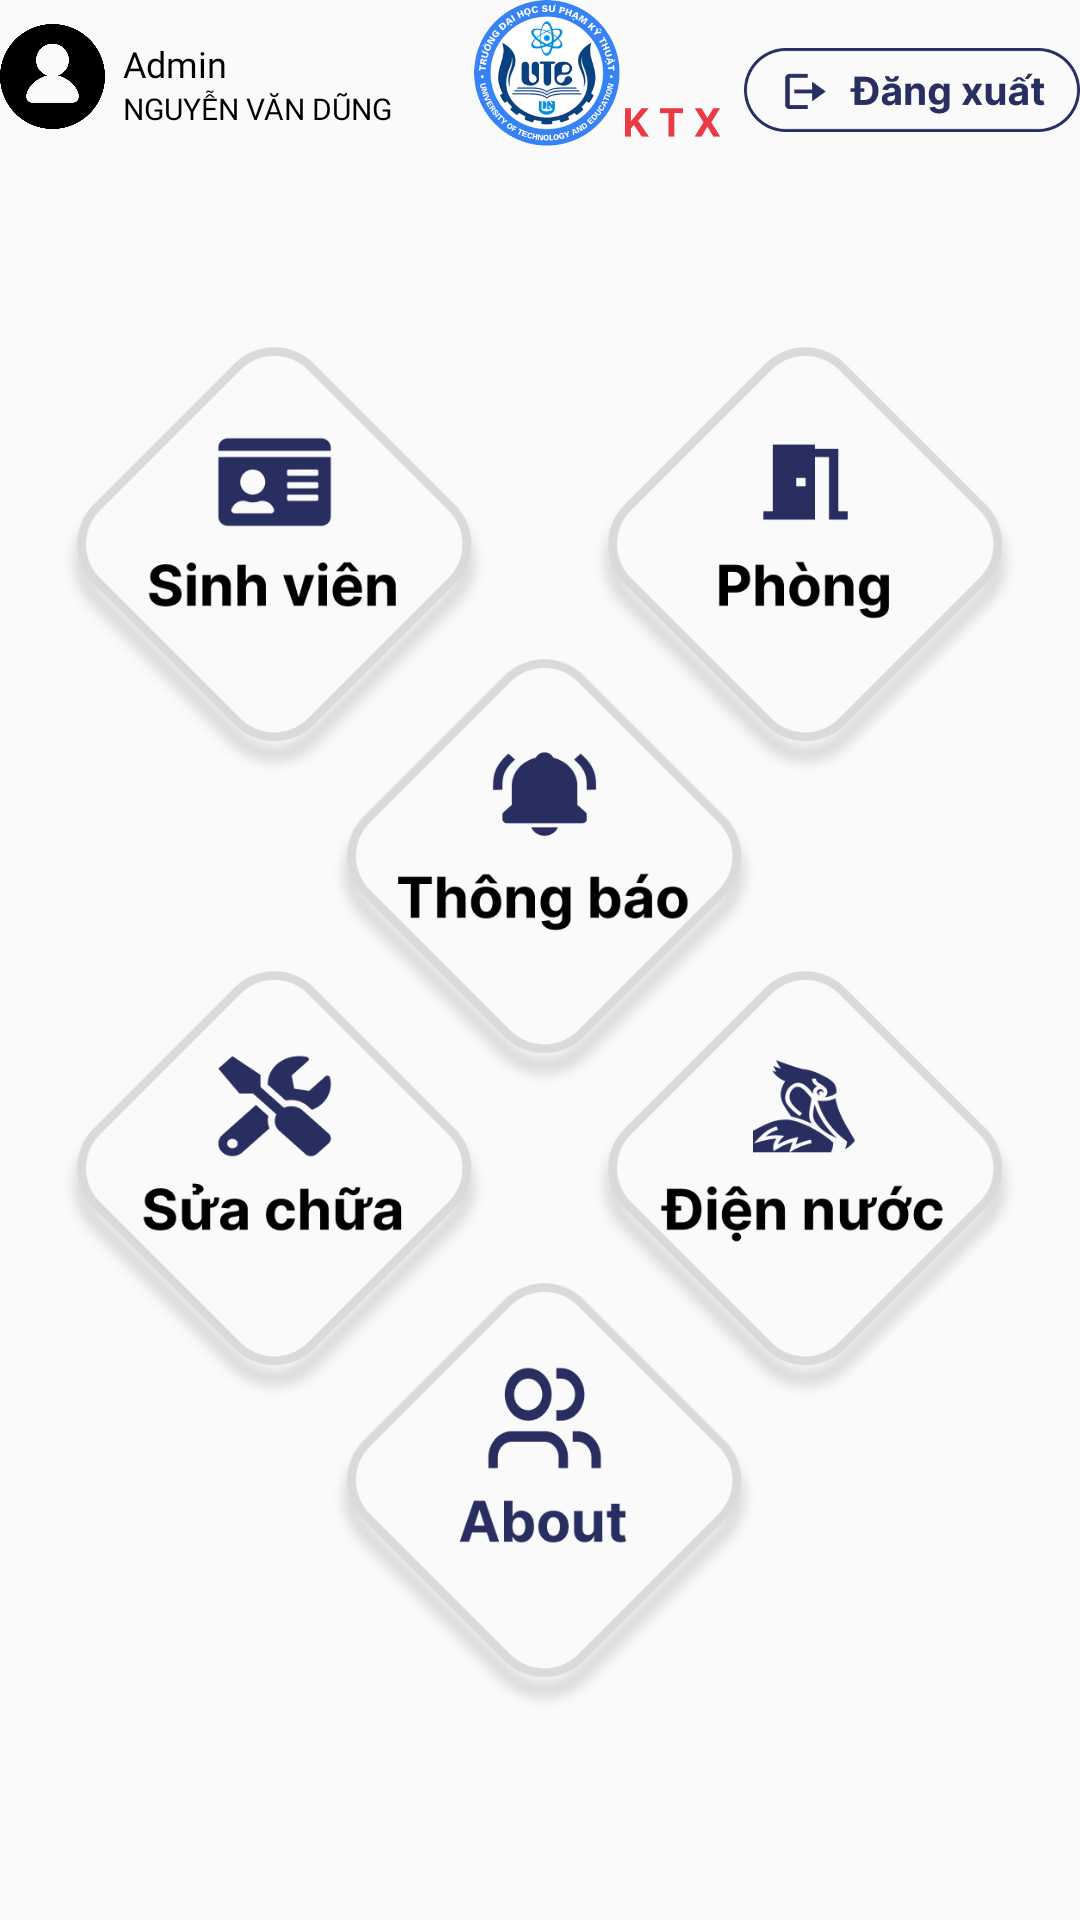

Where icons sit on this 1080 x 1920 app screen, as (x1, y1, x2, y2):
person: (0, 24, 105, 129)
